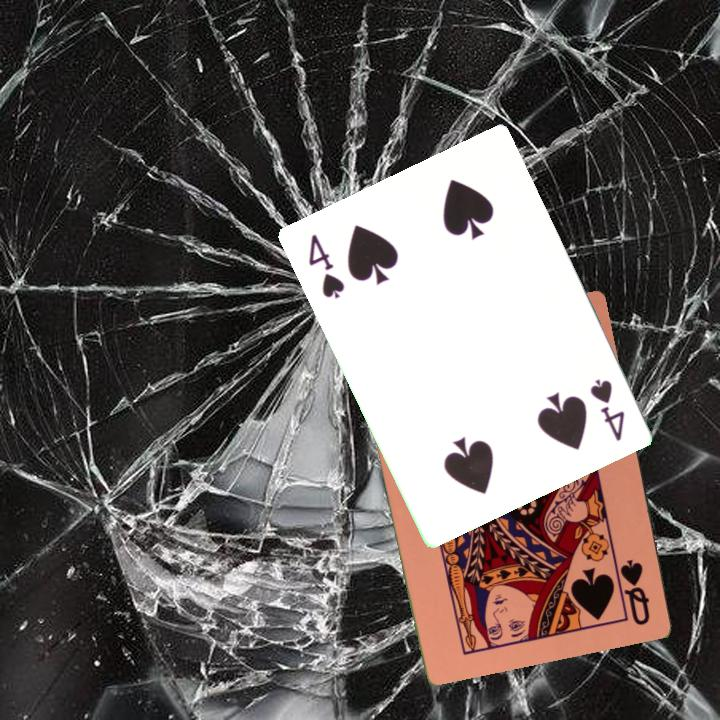4s: (304, 230, 347, 302), (585, 375, 627, 444)
Qs: (616, 555, 652, 628)
